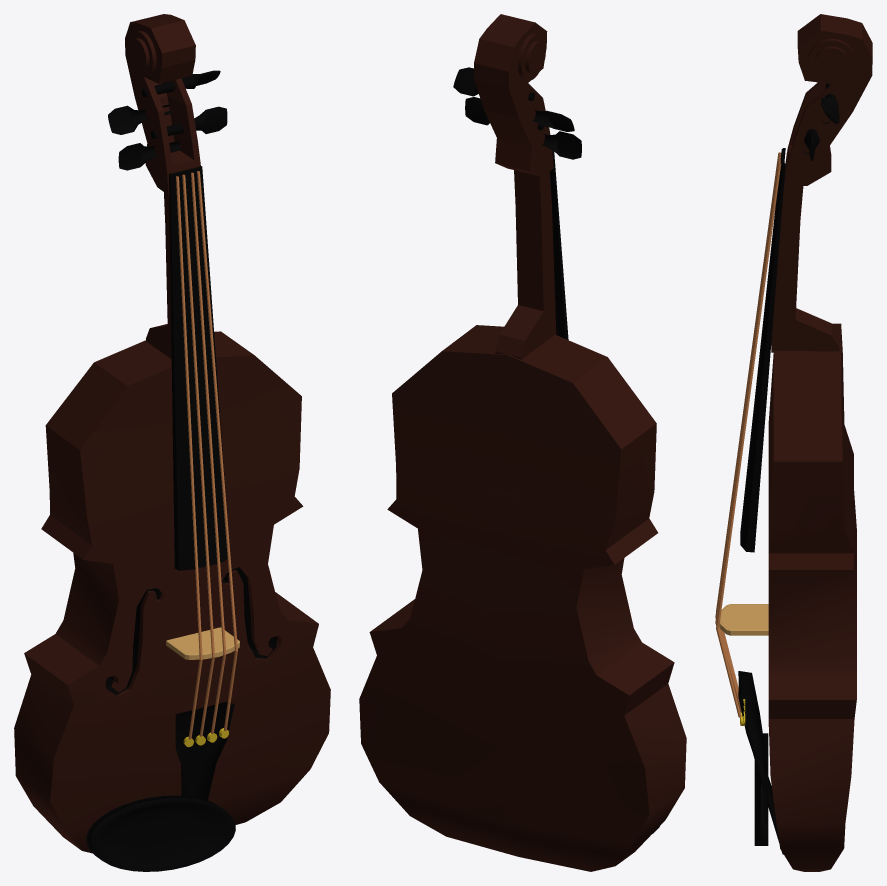
File: violin.obj
3 views of the same model, side by side, from view 1: azimuth 30°, elevation 25°; view 2: azimuth 150°, elevation 25°; view 3: azimuth 270°, elevation 25° (orthographic). The views are drawn at different scales.
Parts seen in each view (by area): view 1: Cube.001; view 2: Cube.001; view 3: Cube.001.
Boxes of the visible parts, x1=… form: Cube.001: x1=14, y1=14, x2=330, y2=871; Cube.001: x1=359, y1=14, x2=686, y2=871; Cube.001: x1=715, y1=14, x2=872, y2=871.
Size of the model in its own units: 0.5897 by 1.65 by 0.2857.
